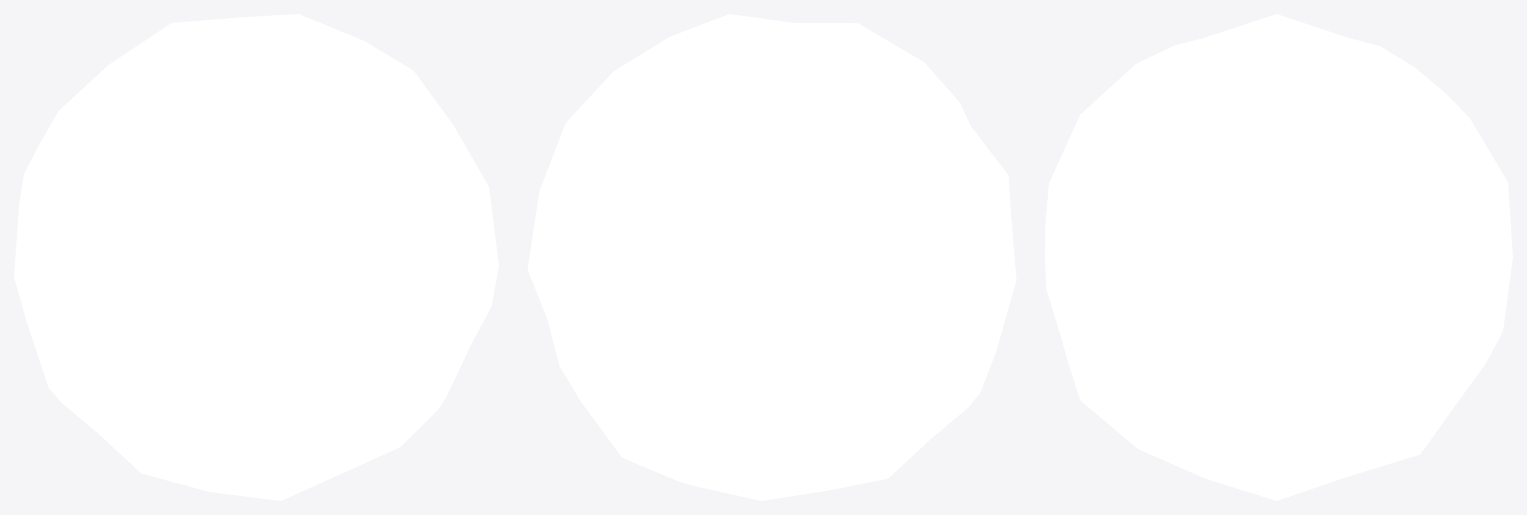
The model's file is shield_bubble_frost.glb.
3 renders of one model, left to right at view 1: azimuth 30°, elevation 25°; view 2: azimuth 150°, elevation 25°; view 3: azimuth 270°, elevation 25°, orthographic. The views are drawn at different scales.
Parts seen in each view (by area): view 1: shield_bubble_frost; view 2: shield_bubble_frost; view 3: shield_bubble_frost.
Part boxes in pixels (bbox=[...]): shield_bubble_frost: bbox=[14, 14, 498, 500]; shield_bubble_frost: bbox=[527, 14, 1016, 500]; shield_bubble_frost: bbox=[1045, 14, 1512, 500].
Bounding box in the file's own units: 2 × 1.99 × 1.99.
1 material, 1 textured.
